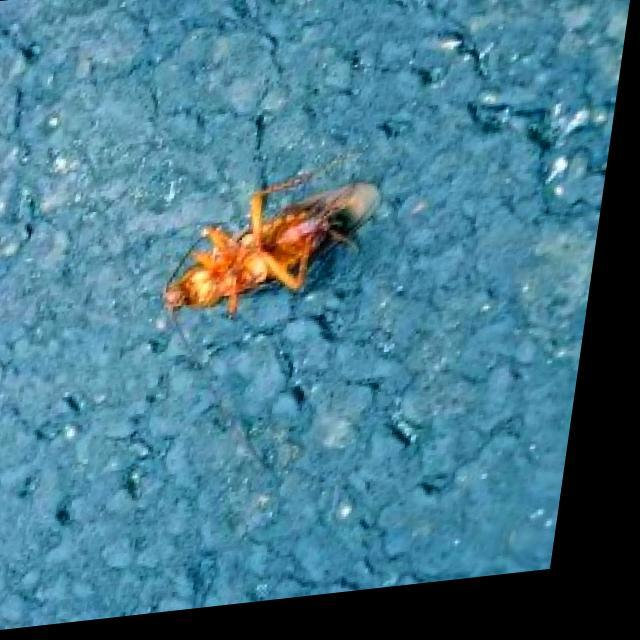cockroach: (159, 166, 382, 323)
